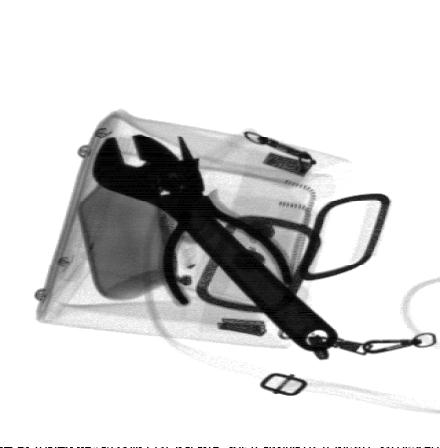Pliers: (145, 134, 294, 306)
Wrench: (88, 134, 340, 352)
